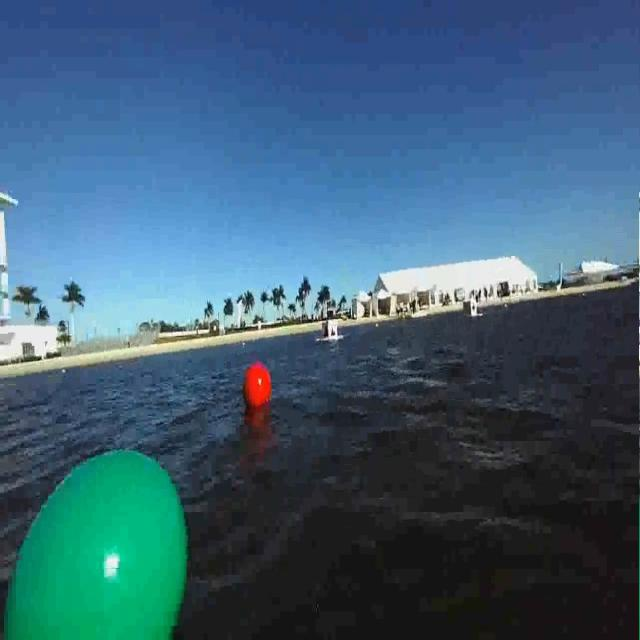green-buoy: (0, 436, 199, 640)
red-buoy: (245, 362, 273, 411)
